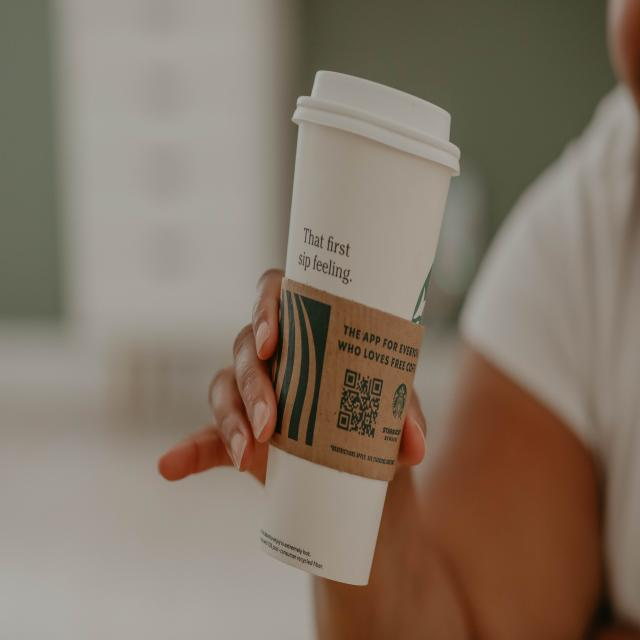cup: (255, 68, 463, 588)
